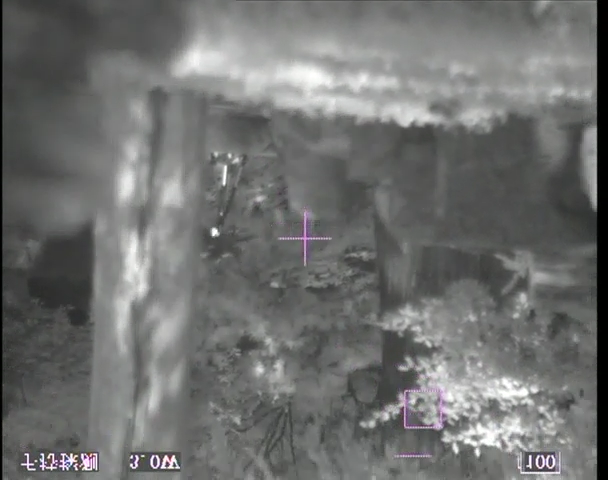my: (209, 226, 219, 238)
